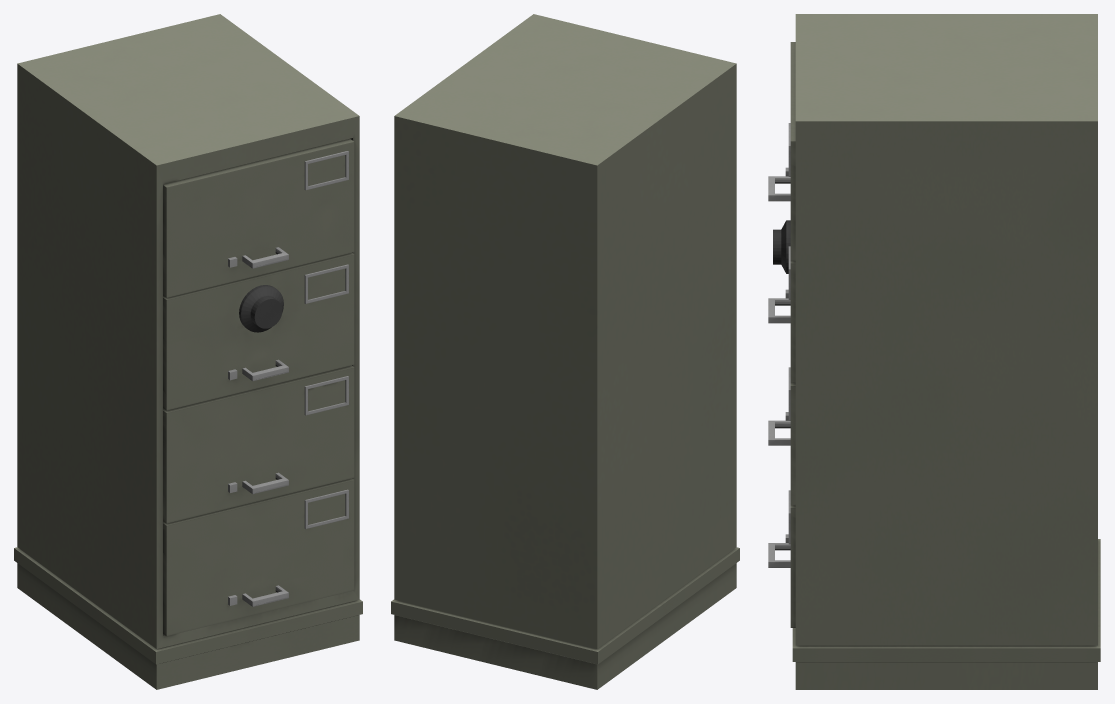
The model's file is Office_Safe4Drawer_1.fbx.
3 views of the same model, side by side, from view 1: azimuth 30°, elevation 25°; view 2: azimuth 150°, elevation 25°; view 3: azimuth 270°, elevation 25° (orthographic). The views are drawn at different scales.
Parts seen in each view (by area): view 1: Office_Safe4Drawer_1; view 2: Office_Safe4Drawer_1; view 3: Office_Safe4Drawer_1.
Boxes of the visible parts, <box> form: Office_Safe4Drawer_1: <box>14,14,362,689</box>; Office_Safe4Drawer_1: <box>391,14,739,689</box>; Office_Safe4Drawer_1: <box>768,14,1100,689</box>.
Size of the model in its own units: 55.17 by 134 by 70.83.
